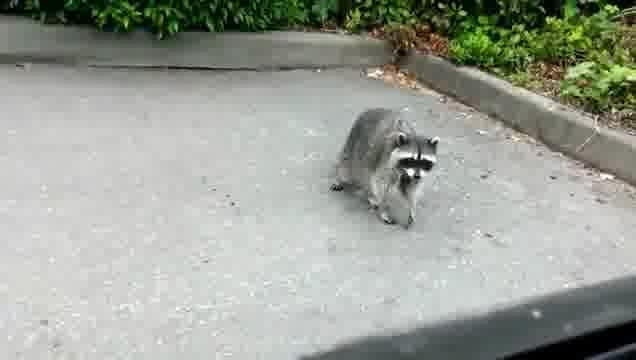raccoon: (325, 104, 443, 237)
